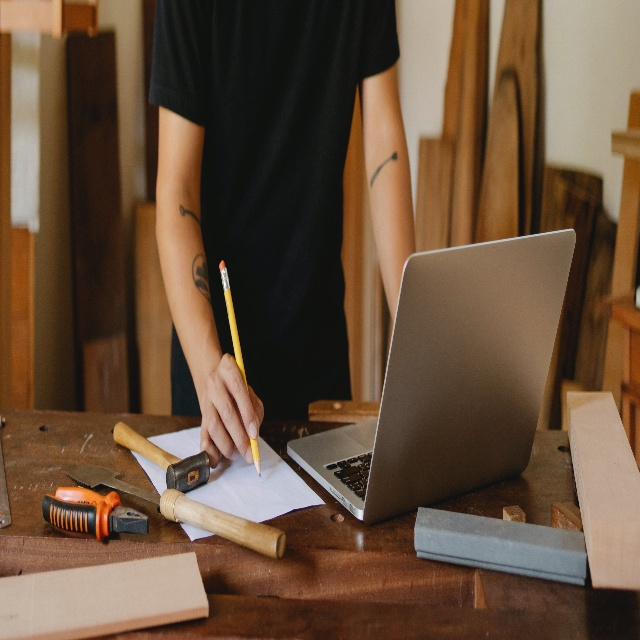Sin_guantes: (199, 351, 265, 470)
